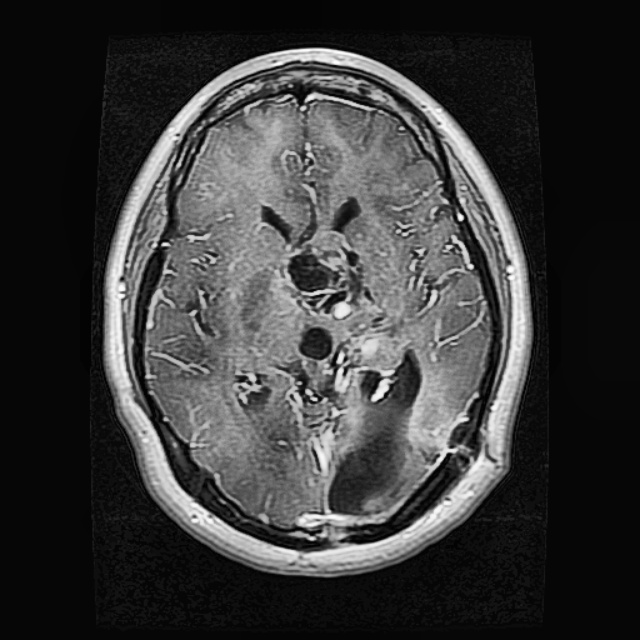Meningioma: (284, 313, 449, 520)
